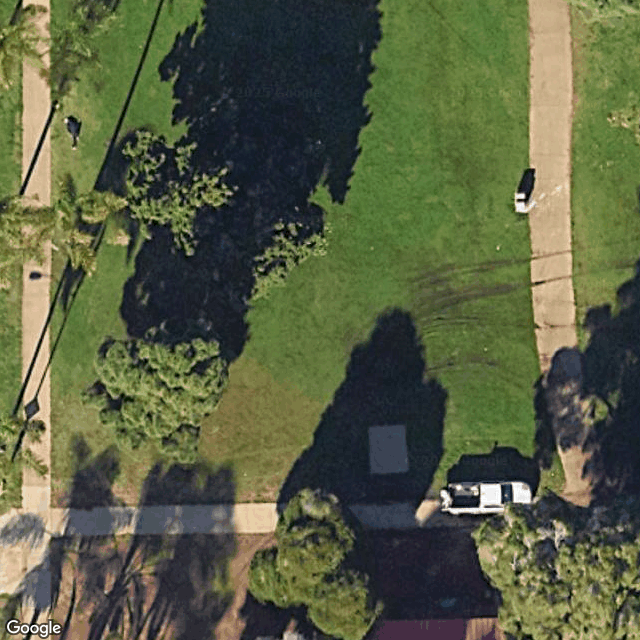palm: (43, 177, 141, 275), (53, 1, 126, 85), (1, 3, 52, 85), (1, 194, 44, 268)
